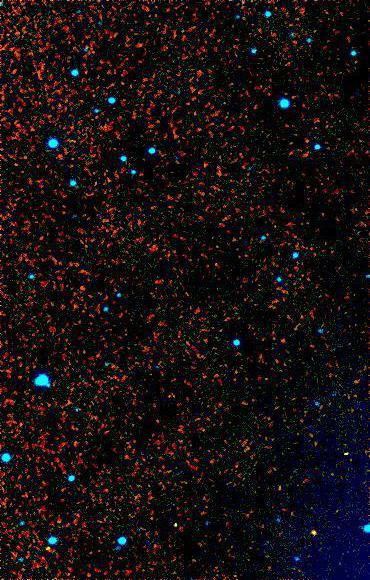star: (298, 518, 328, 548)
